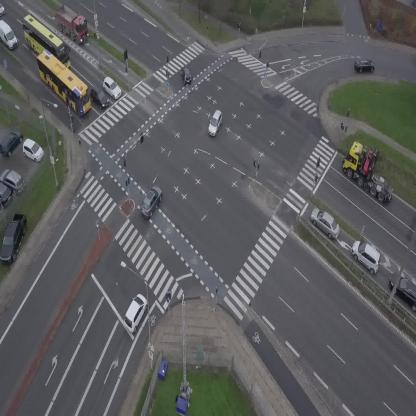bicycle: (68, 114, 75, 129)
bus: (28, 47, 100, 118), (12, 12, 80, 74)
car: (346, 236, 388, 277), (305, 205, 346, 242), (119, 292, 150, 335), (136, 182, 167, 220), (85, 83, 113, 110), (99, 75, 125, 100), (205, 108, 226, 137), (353, 56, 376, 74), (179, 65, 193, 85), (0, 1, 5, 16)
lorry: (335, 134, 399, 214), (48, 1, 96, 47), (0, 18, 21, 53)
